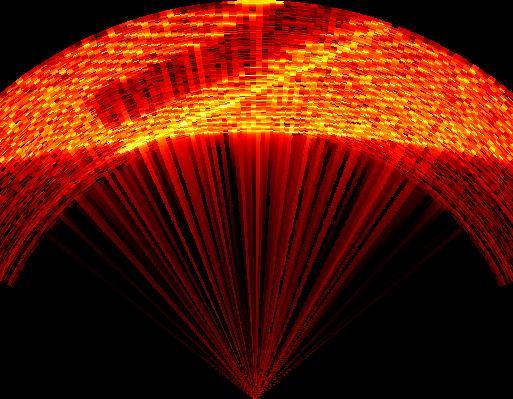pipe: (84, 2, 356, 130)
